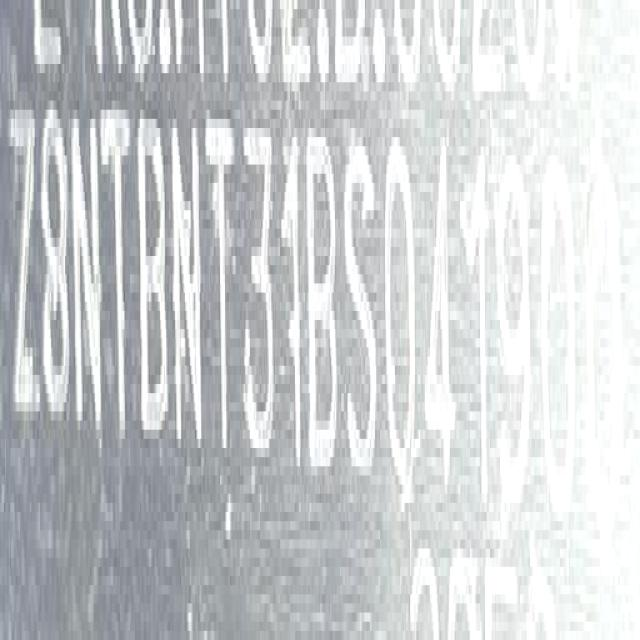0: (379, 115, 418, 528), (586, 132, 622, 534), (539, 142, 576, 525)
1: (464, 132, 492, 522), (280, 102, 306, 484)
3: (240, 102, 277, 501)
4: (421, 129, 462, 518)
8: (44, 111, 70, 428)
9: (497, 169, 535, 493)
B: (306, 112, 342, 514), (141, 106, 171, 453)
N: (172, 102, 208, 467), (68, 98, 104, 437)
S: (348, 128, 380, 479)
T: (202, 95, 240, 471), (98, 88, 134, 461)
Z: (13, 109, 36, 426)
